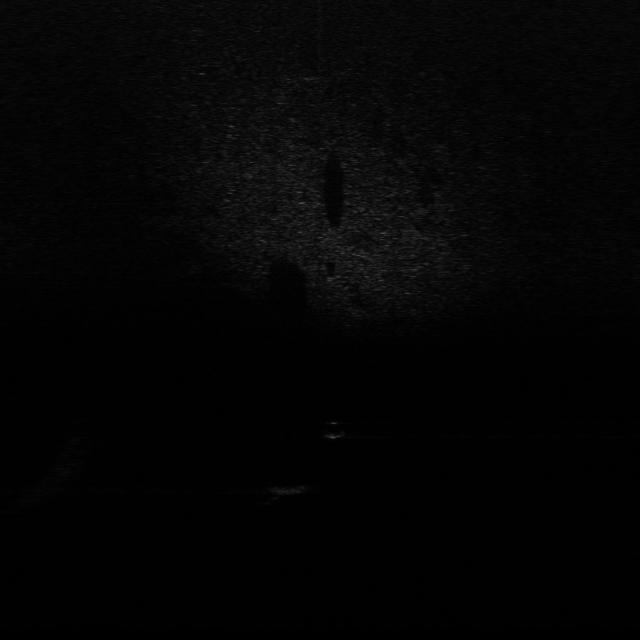ball: (313, 418, 352, 442)
square cage: (260, 478, 320, 497)
